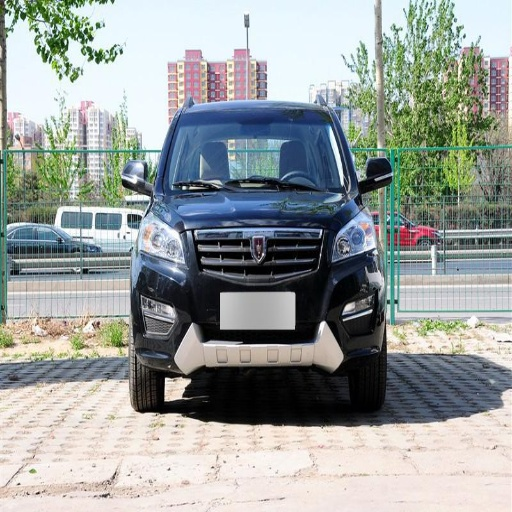front_bumper: (135, 228, 384, 373)
front_right_light: (140, 216, 188, 267)
hood: (155, 186, 361, 228)
